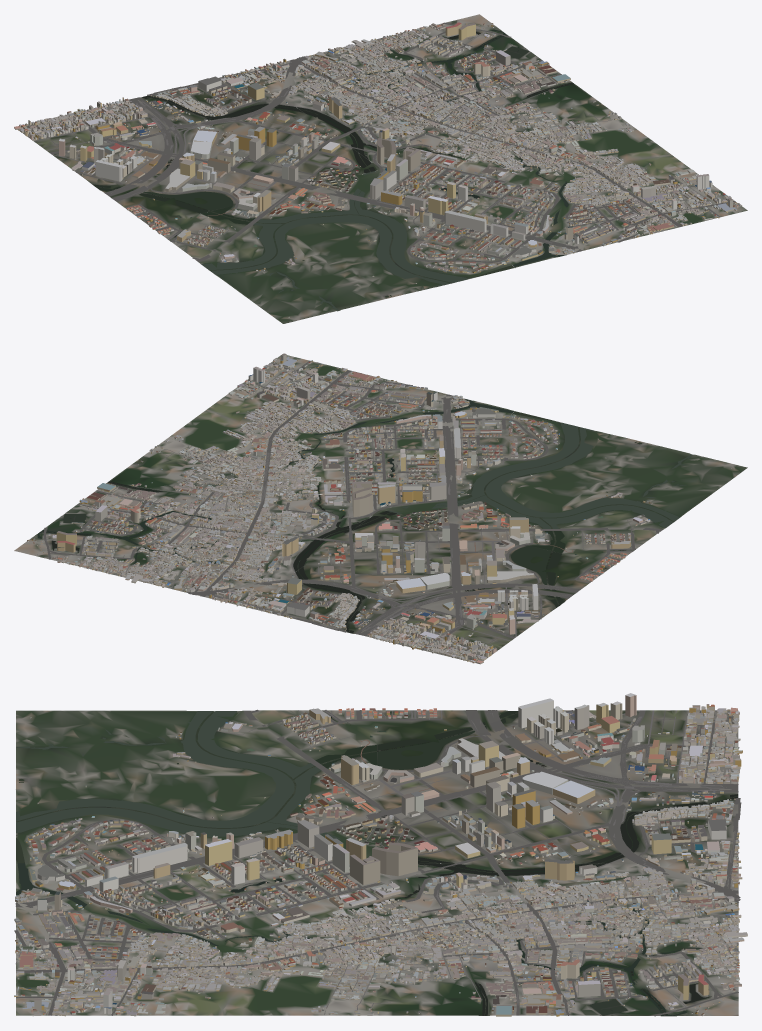
3 views of the same model, one above another, from view 1: azimuth 30°, elevation 25°; view 2: azimuth 150°, elevation 25°; view 3: azimuth 270°, elevation 25° (orthographic). The views are drawn at different scales.
Parts seen in each view (by area): view 1: ground, buildings, roads, water; view 2: ground, buildings, roads, water; view 3: ground, buildings, roads, water.
Boxes of the visible parts, x1,y1,x2,y2 form: ground: (20, 14, 747, 323); buildings: (14, 20, 742, 317); roads: (23, 22, 735, 262); water: (92, 29, 573, 310); ground: (14, 354, 747, 663); buildings: (27, 353, 731, 664); roads: (43, 360, 662, 659); water: (37, 398, 692, 633); ground: (16, 710, 738, 1016); buildings: (14, 693, 747, 1016); roads: (14, 709, 741, 1016); water: (16, 711, 738, 1015).
Size of the model in its own units: 2820 by 107 by 2845.
